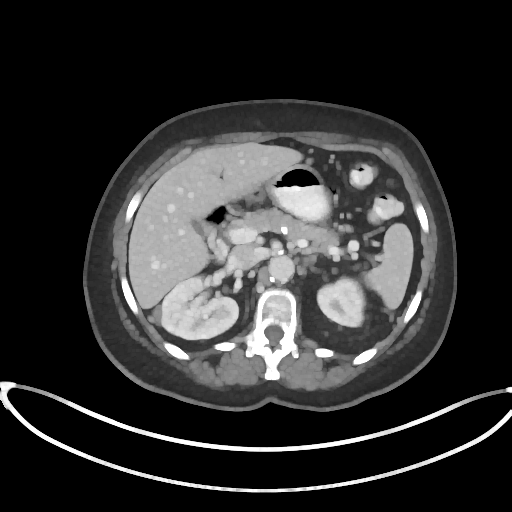Lesion: (150, 298, 165, 327)
